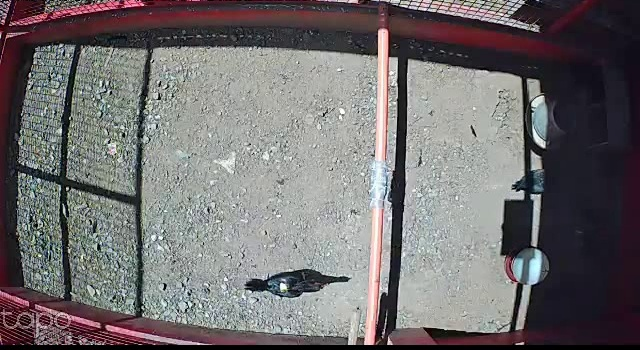Chicken: (511, 164, 570, 203), (243, 273, 325, 300)
Drinker: (504, 245, 552, 284)
Feeder: (525, 90, 582, 152)
Saddle_Color_Yellow: (279, 278, 289, 295)
